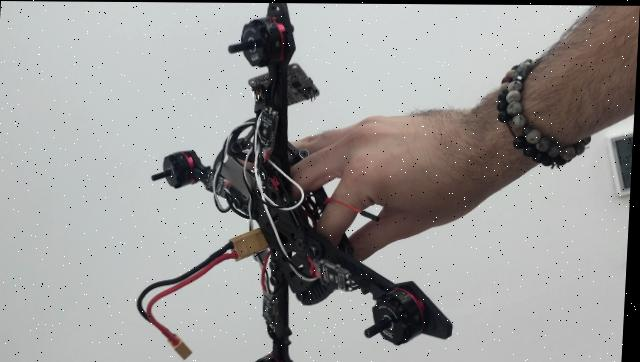drone: (143, 2, 474, 361)
